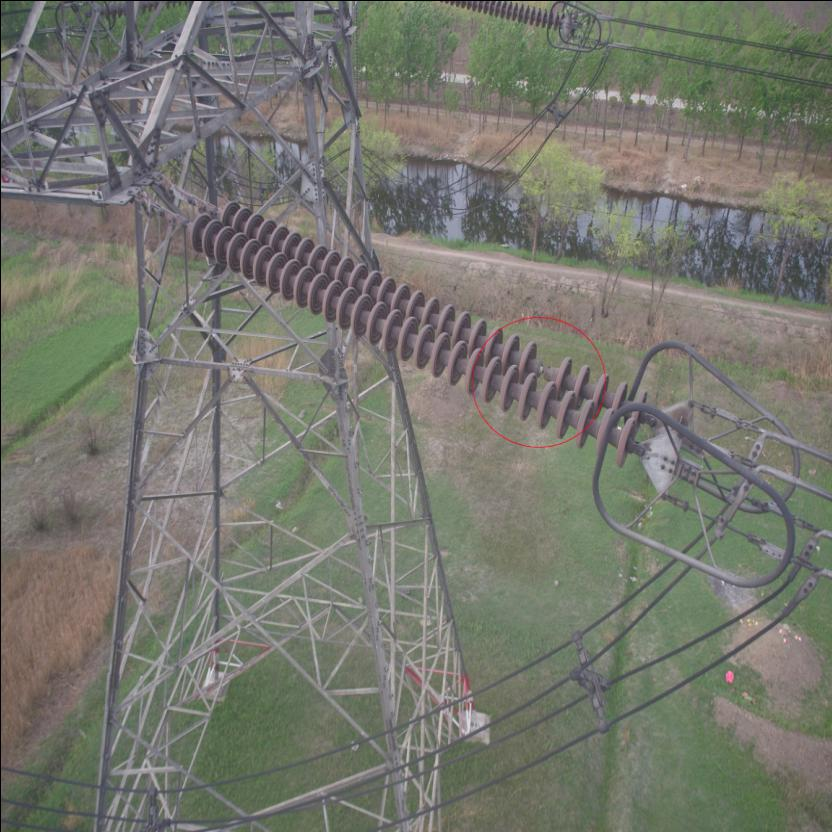insulator: (180, 192, 652, 472), (444, 0, 566, 36)
